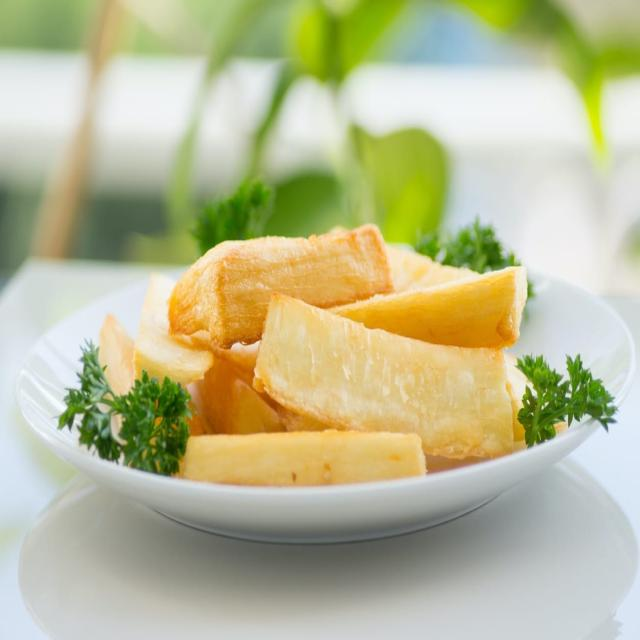yuca: (249, 288, 523, 468), (160, 222, 400, 358)
